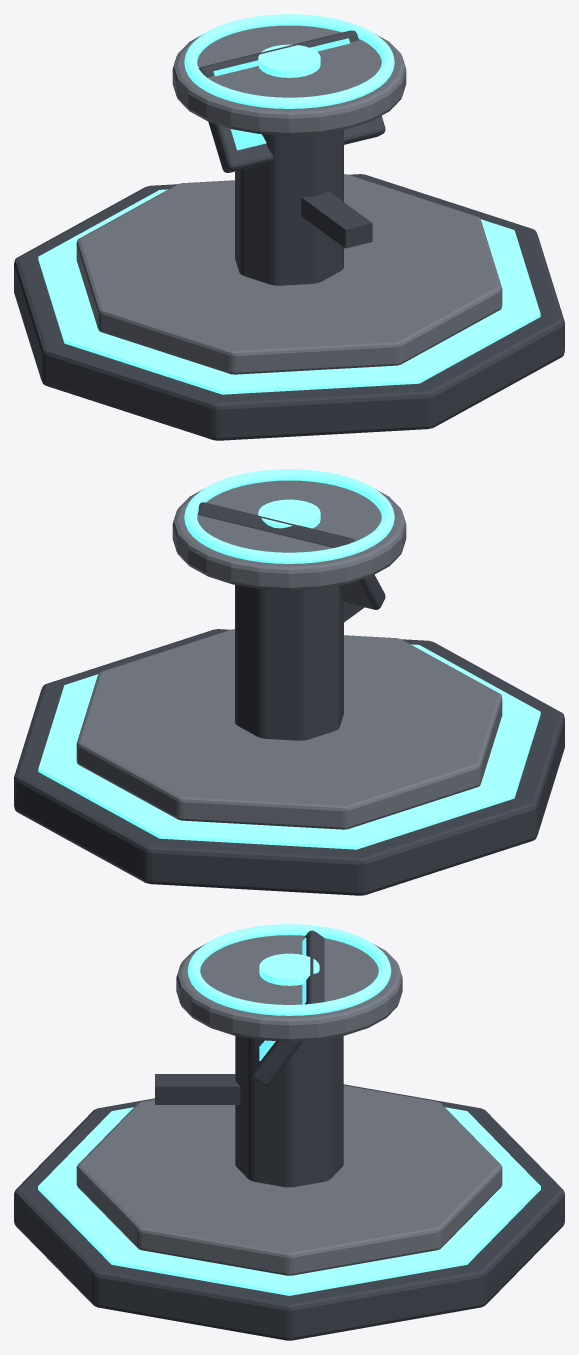
File: terminal.glb
3 views of the same model, one above another, from view 1: azimuth 30°, elevation 25°; view 2: azimuth 150°, elevation 25°; view 3: azimuth 270°, elevation 25° (orthographic). The views are drawn at different scales.
Visible parts, largest first — view 1: Terminal; view 2: Terminal; view 3: Terminal.
Part boxes in pixels (x1,y1,x2,y2): Terminal: [14, 14, 564, 440]; Terminal: [14, 469, 564, 895]; Terminal: [14, 924, 564, 1340].
Bounding box in the file's own units: 2.19 × 1.14 × 2.19.
